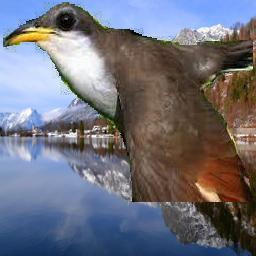Cuckoo: (3, 2, 253, 202)
